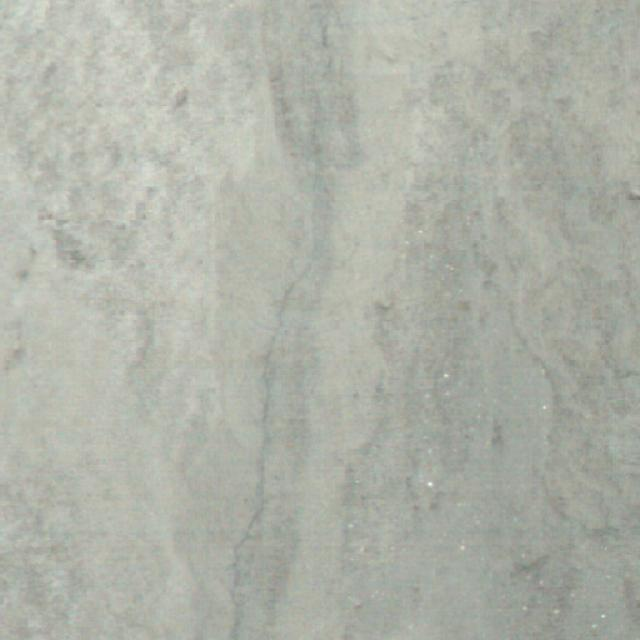Longitudinal: (198, 5, 368, 640)
